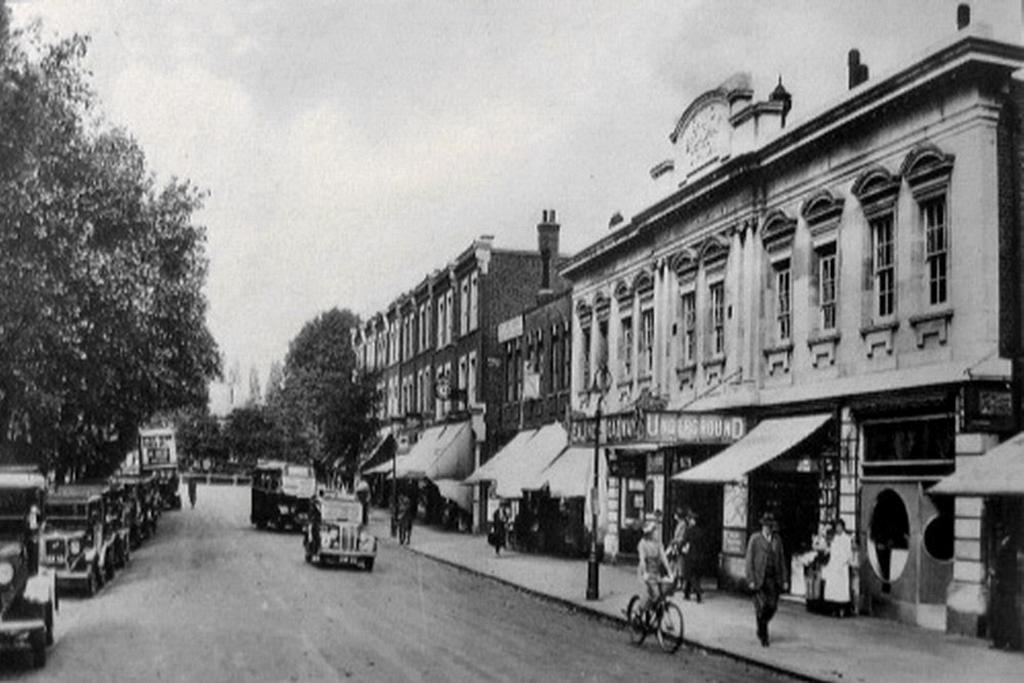cars: (0, 463, 184, 669), (303, 492, 373, 570)
